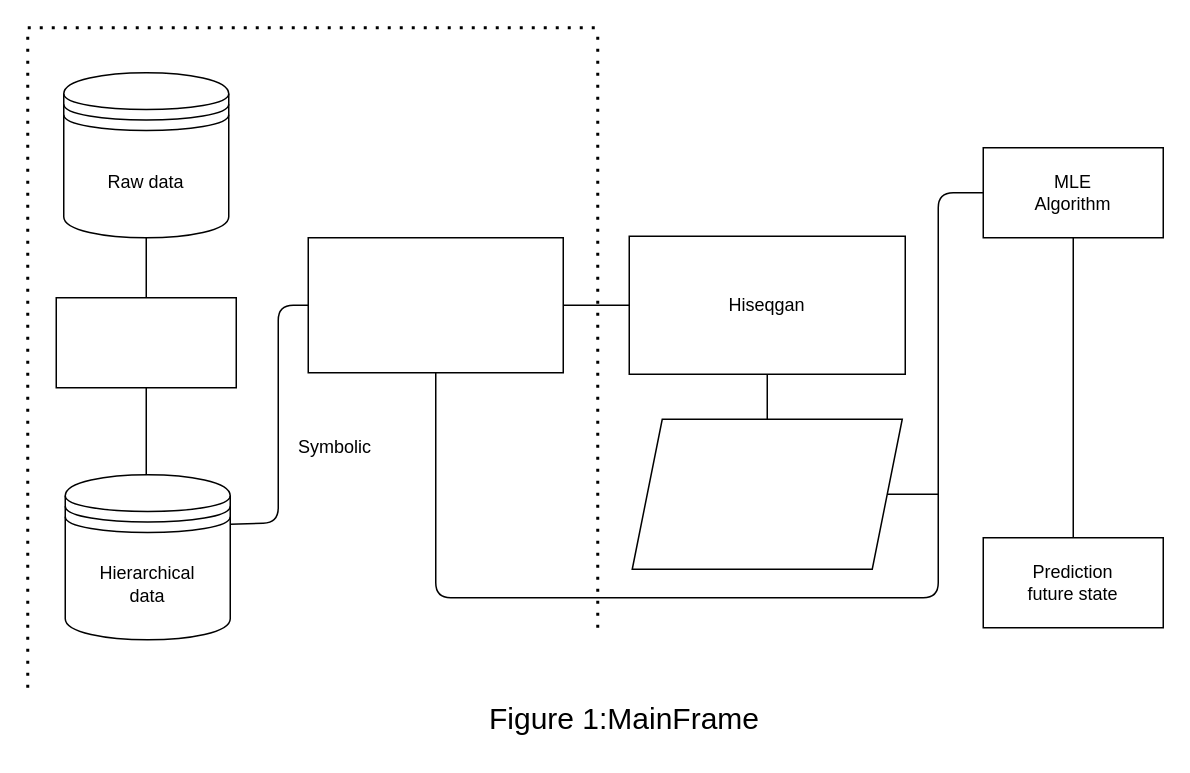
The diagram is 1190 pixels wide and 773 high, and some of its shapes have lost their labels. The centre of each missing label's shape, as x and y in pixels:
Discrete Sequence: point (435, 304)
GHSOM: point (145, 342)
Synthesized Sequence: point (766, 493)
